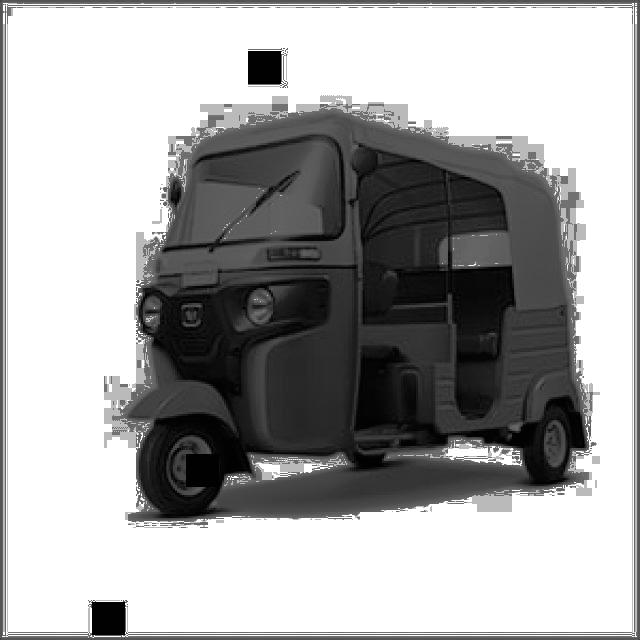Auto-Rickshaw: (119, 98, 603, 520)
